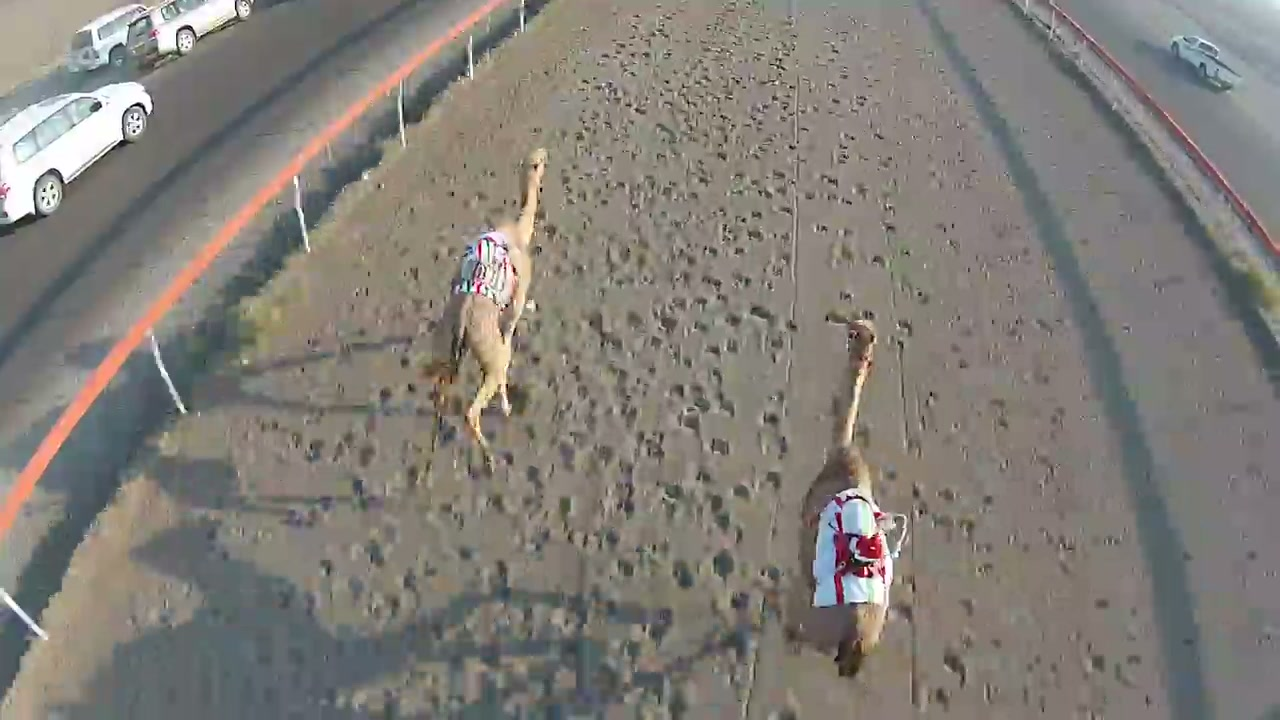animal_footprint: (435, 66, 764, 664), (735, 49, 884, 698)
